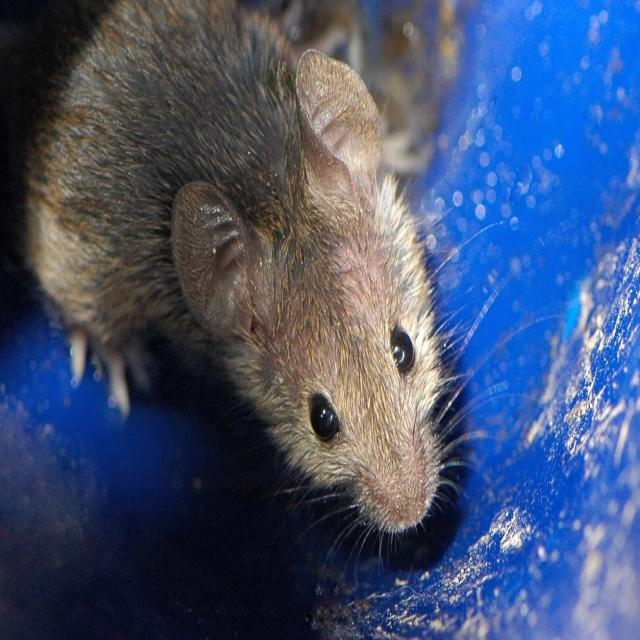rat: (14, 0, 464, 564)
